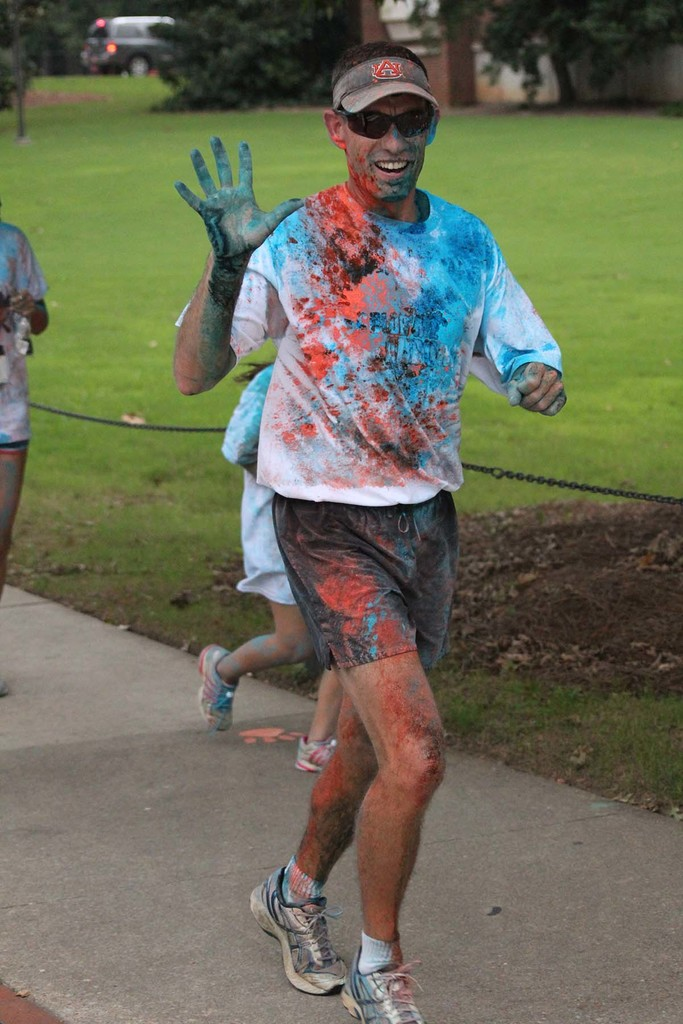Footwear: (247, 868, 347, 994), (342, 945, 434, 1023), (200, 644, 243, 733), (292, 735, 334, 770), (0, 679, 12, 697)
